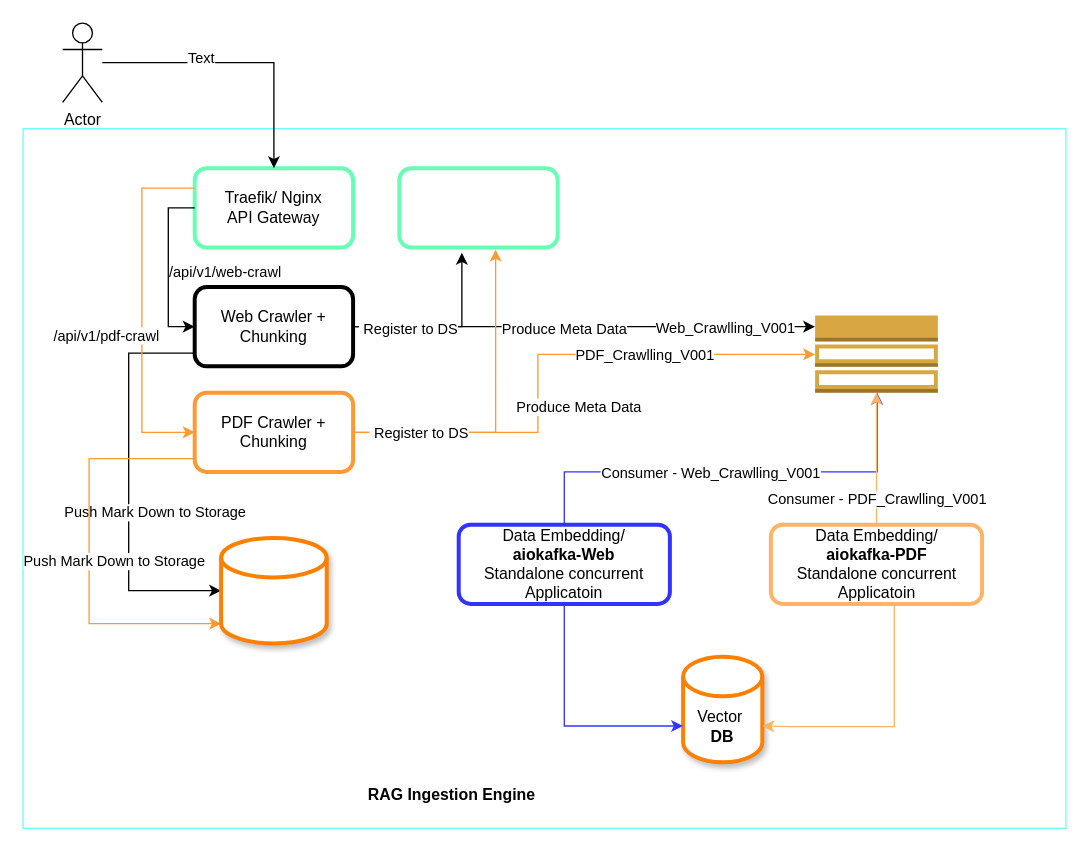
Image size: 1089x851. Some labels were removed from this diagram. The centre of each missing label's shape, as x and y in pixels:
"Consul/Eureka Discovery Service" belongs at (x=478, y=207).
"Kafka Topic" belongs at (x=876, y=353).
"MinIO/S3" belongs at (x=274, y=592).
